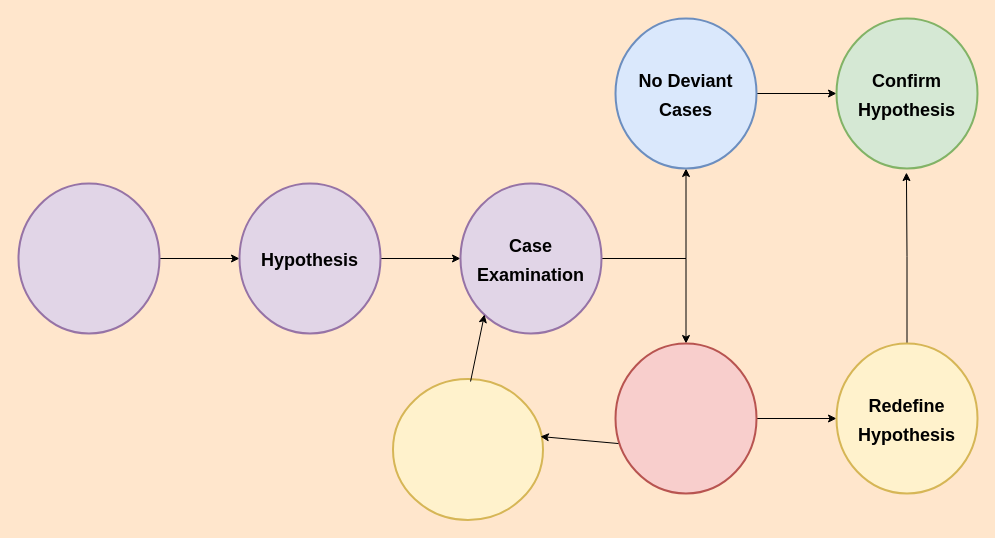
The diagram is 995 pixels wide and 538 high, and some of its shapes have lost their labels. The centre of each missing label's shape, as x and y in pixels:
"Deviant Cases" goes at point 685,418.
"Reformulate Hypothesis" goes at point 468,449.
"Rough Question" goes at point 88,258.
